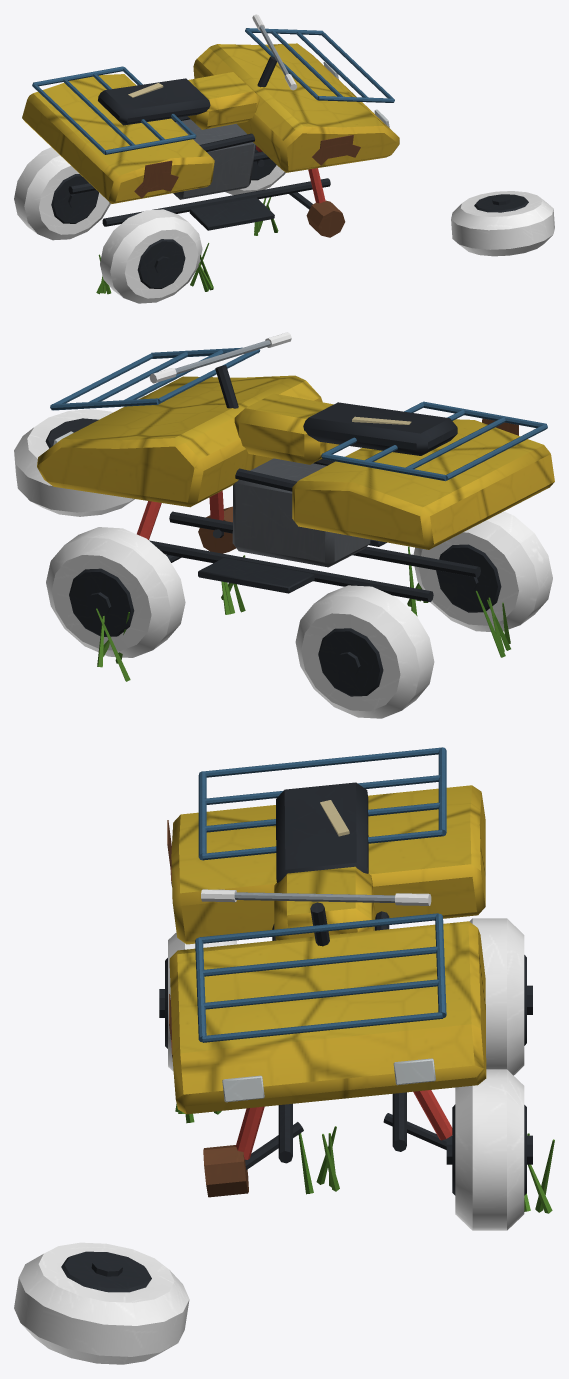
Rendered from quad_bike_wreck.glb.
3 renders of one model, top to bottom at view 1: azimuth 30°, elevation 25°; view 2: azimuth 150°, elevation 25°; view 3: azimuth 270°, elevation 25°, orthographic. The views are drawn at different scales.
Parts seen in each view (by area): view 1: quad_bike_wreck; view 2: quad_bike_wreck; view 3: quad_bike_wreck.
Boxes of the visible parts, <box> form: quad_bike_wreck: <box>14,14,554,303</box>; quad_bike_wreck: <box>14,332,554,718</box>; quad_bike_wreck: <box>14,747,554,1364</box>.
Size of the model in its own units: 2.77 by 1.26 by 1.88.
Materials: 16 (16 with a texture image).
